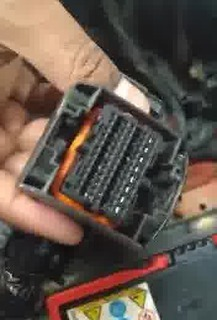connector: (15, 82, 188, 252)
